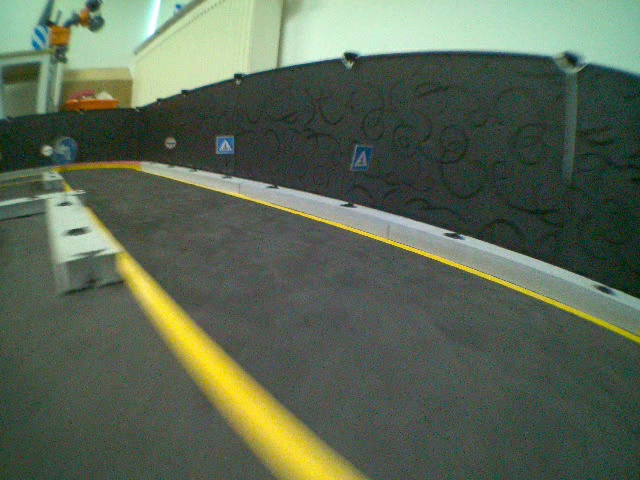Check: (163, 134, 176, 149)
crossing: (349, 145, 371, 169), (215, 134, 235, 156)
turn: (54, 137, 77, 166)
